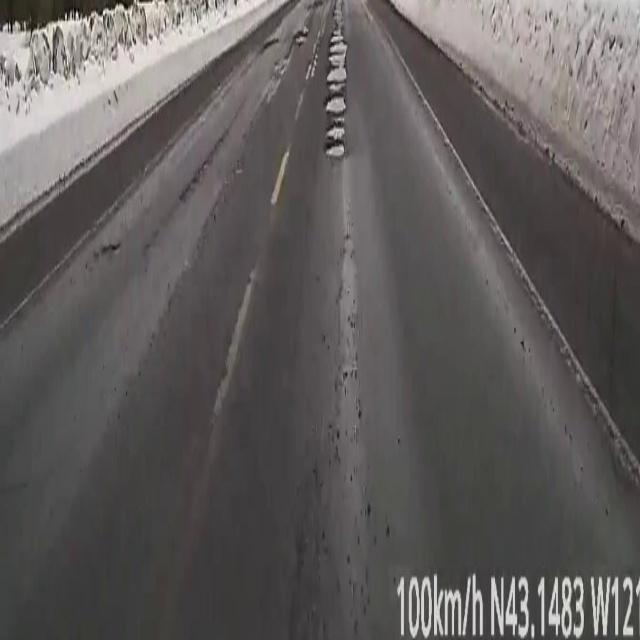pothole: (324, 0, 346, 163)
